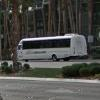Bus: (16, 33, 89, 62)
